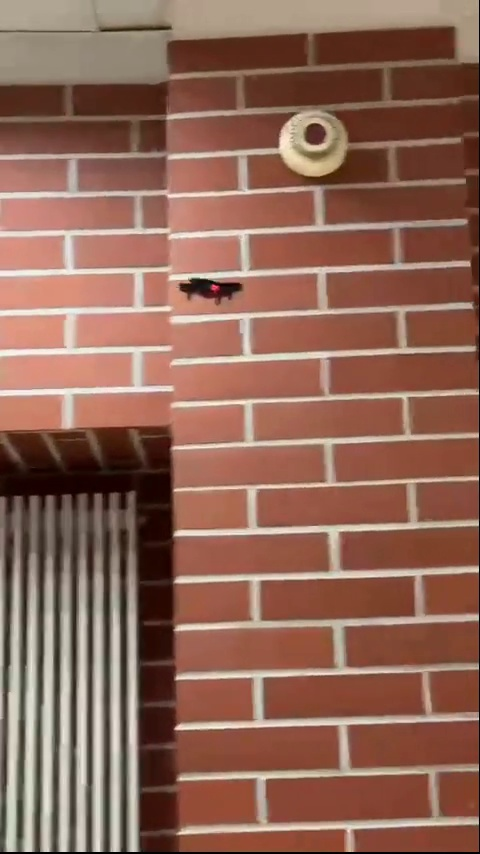drone: (178, 274, 247, 302)
